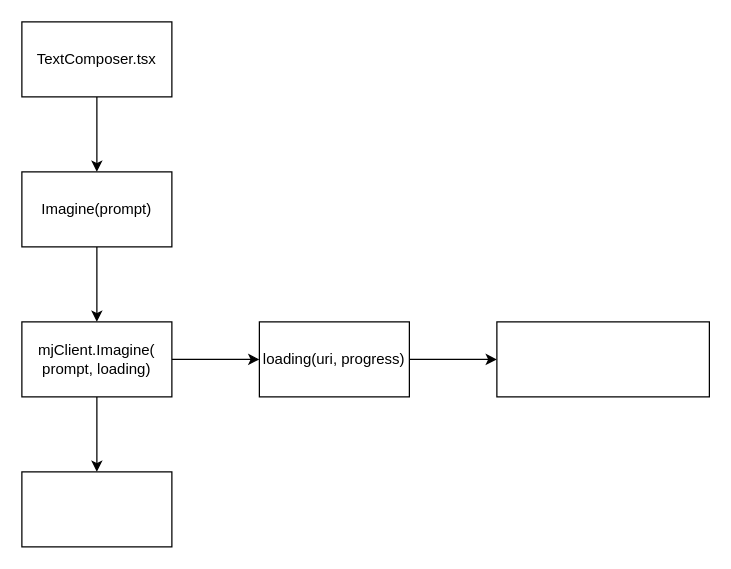
Some shapes in this 731 by 569 pixel diagram are drawn without their labels. Each missing label, with the centre of its shape:
.then: the point at 96,509
Message.progress = progress Message.uri = uri: the point at 602,359
